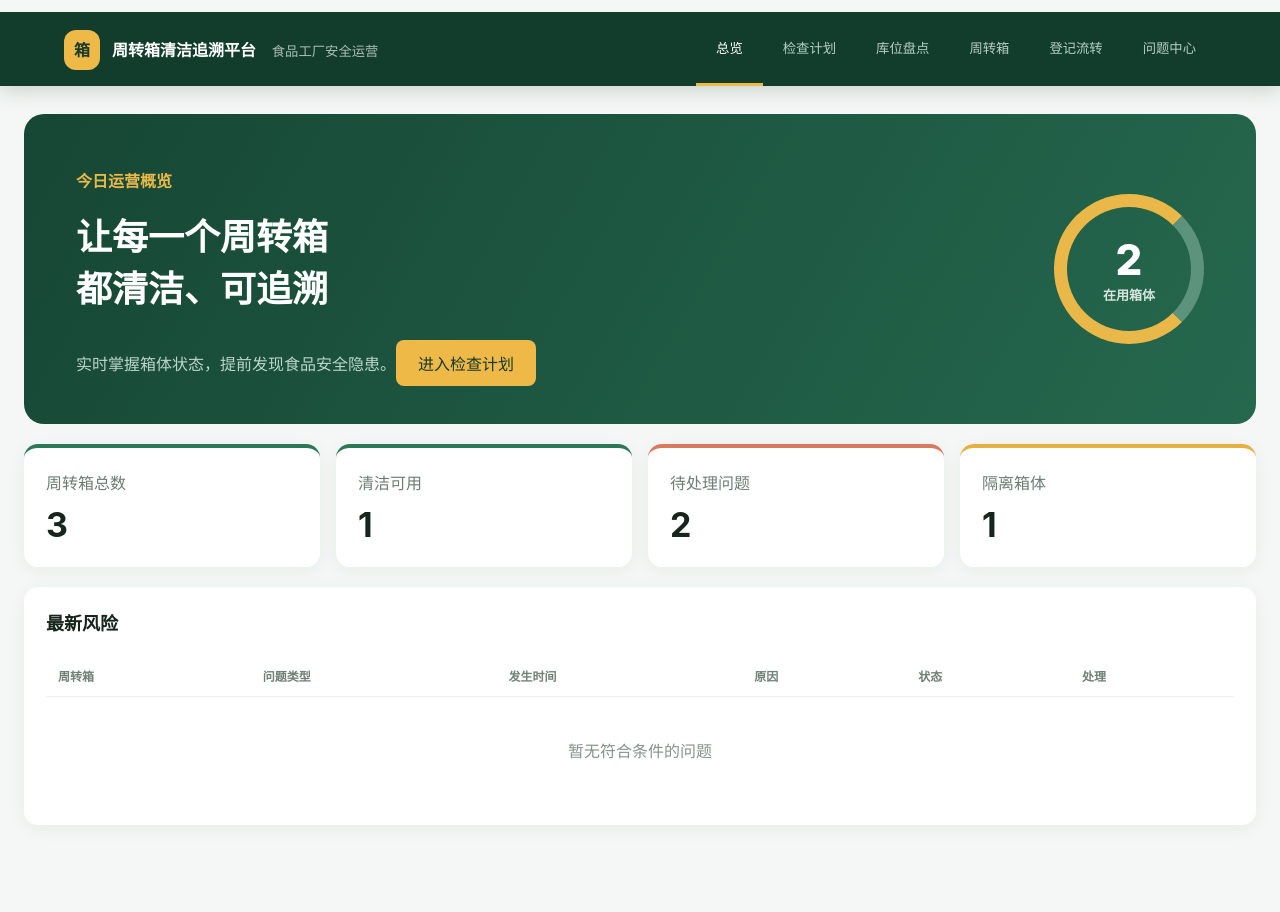
it: opens plan from home and shows categories ordered never/overdue/due_soon
Expected: the text "周转箱总数" is shown, x1=46 y1=473 x2=126 y2=493
Click the button "进入检查计划" at (466, 363), box x1=396 y1=340 x2=536 y2=386
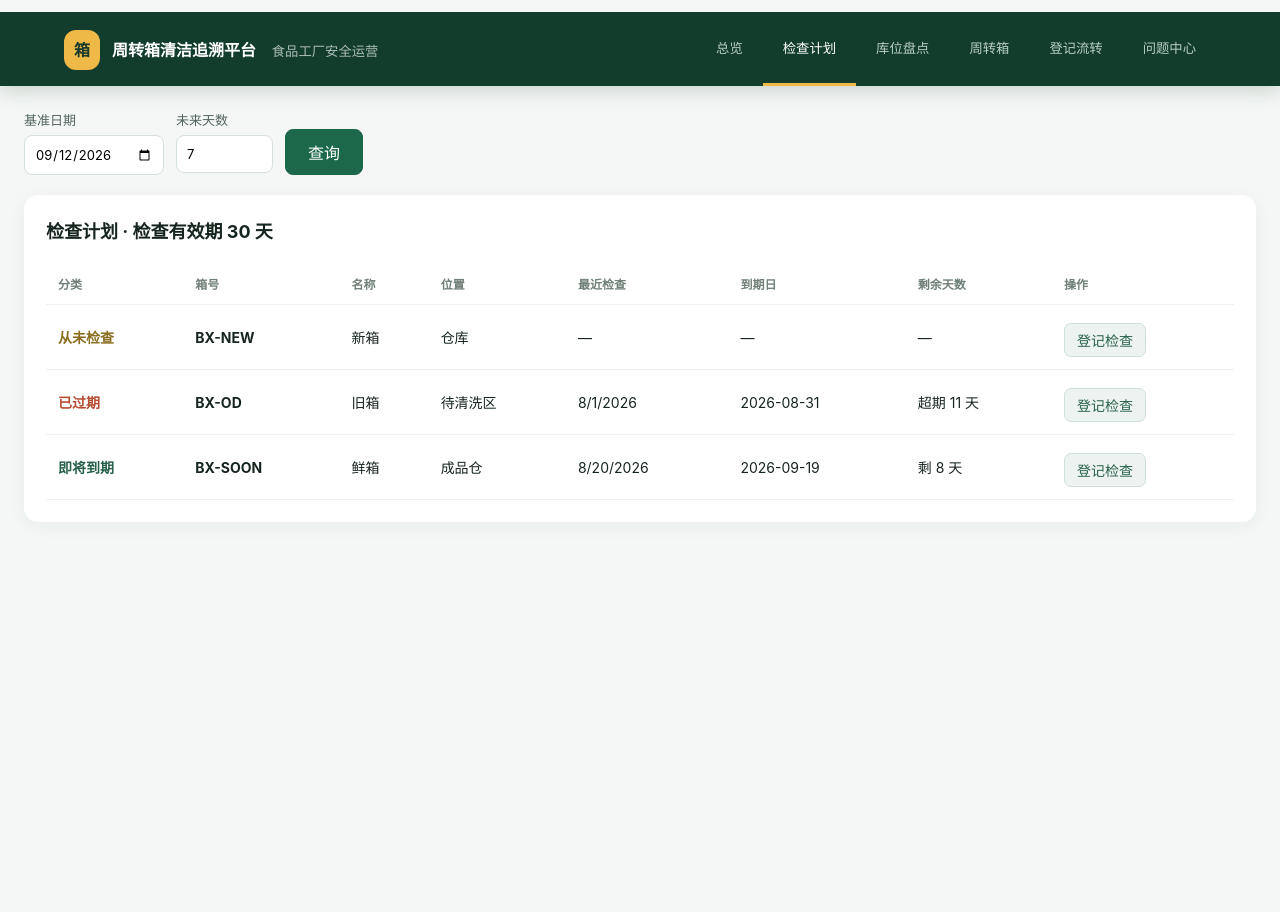
Expected: the text "BX-NEW" is shown, x1=195 y1=328 x2=255 y2=346
Expected: the heading "检查计划 · 检查有效期 30 天" is shown, x1=46 y1=221 x2=273 y2=242
Expected: the row "从未检查 BX-NEW 新箱 仓库 — — — 登记检查" is shown, x1=46 y1=304 x2=1234 y2=370
